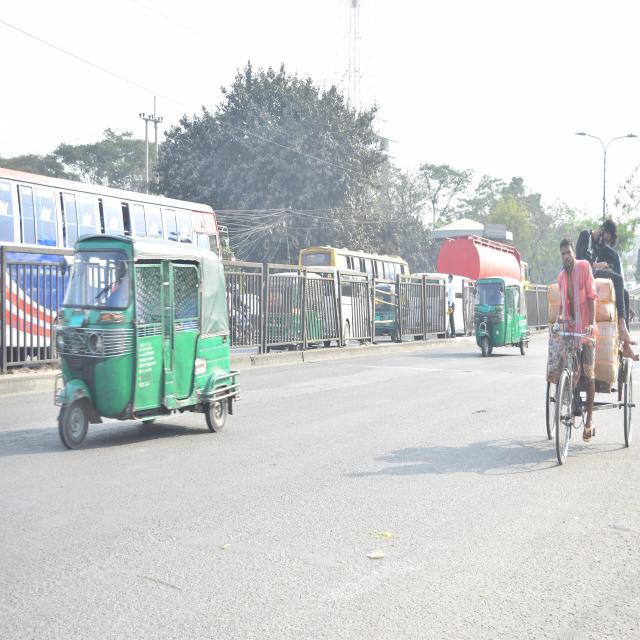bus: (0, 167, 231, 346), (298, 236, 413, 290)
truck: (433, 223, 534, 304)
